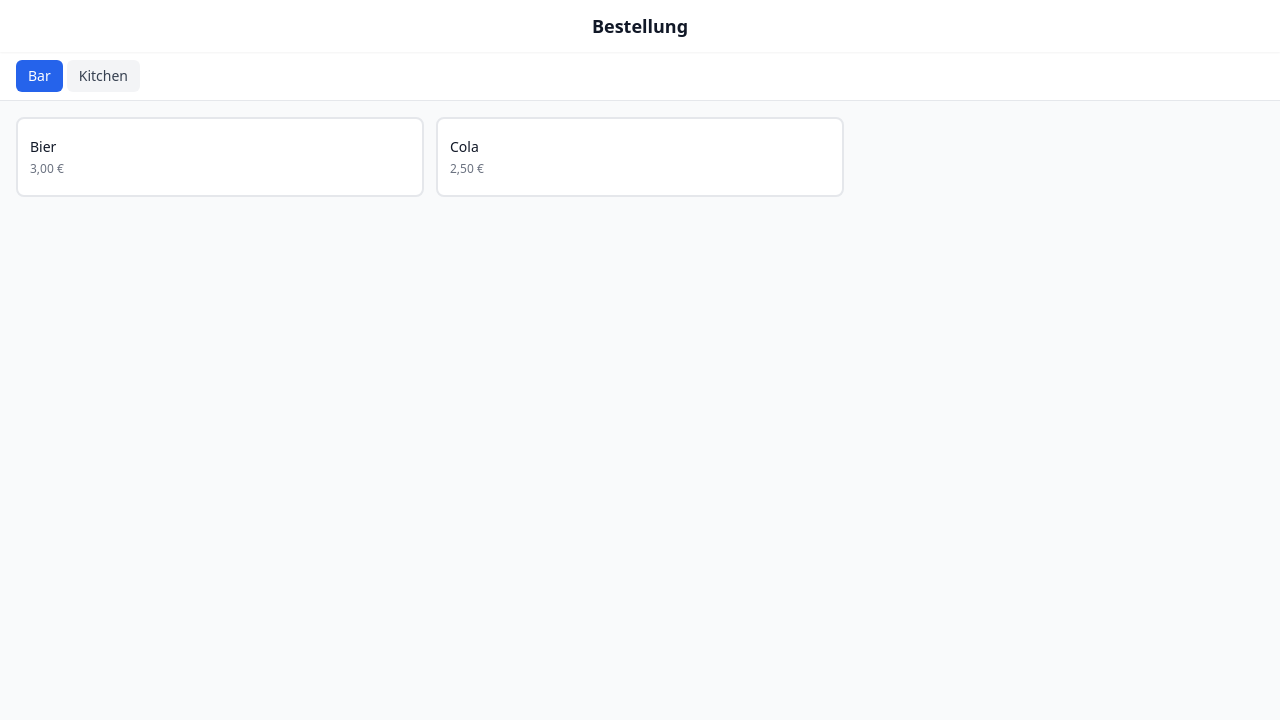
Test: GuestOrder › adding a product increments the guest cart and recomputes the total
The image size is (1280, 720).
// Add Bier twice
Click the text "Bier".
click(43, 146)  # box [30,137,56,156]
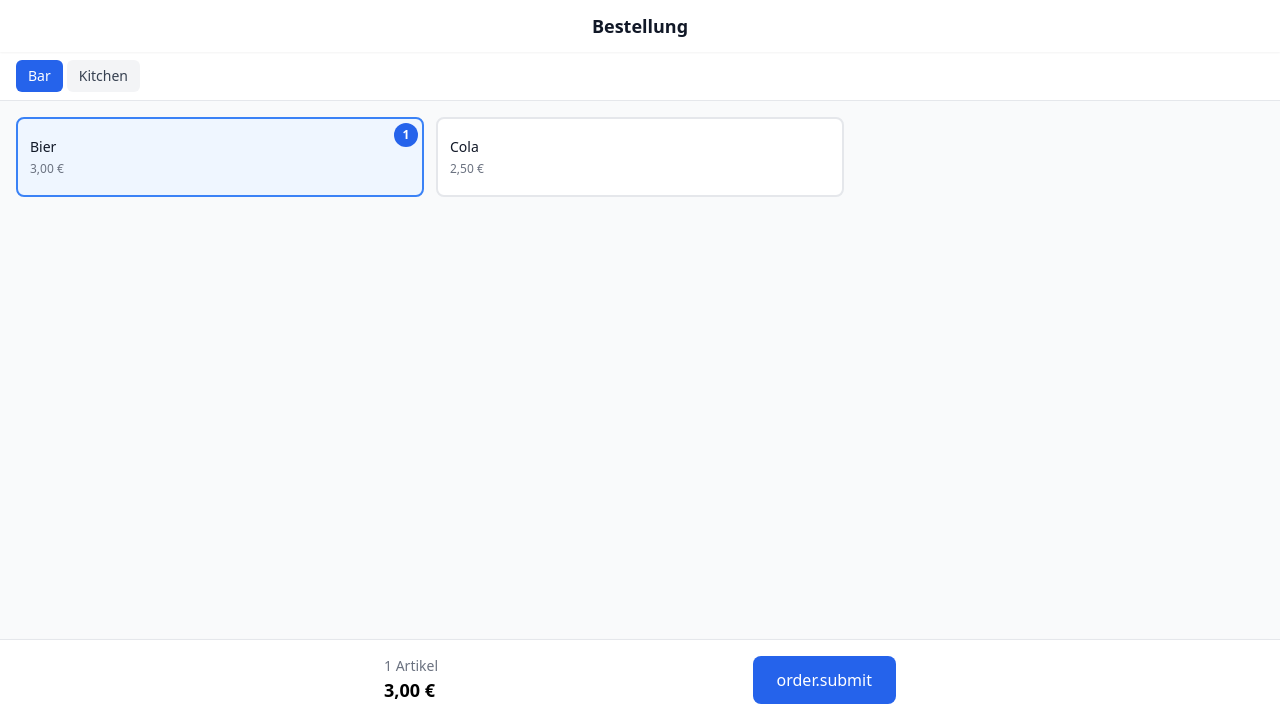
Click the text "Bier".
click(43, 146)  # box [30,137,56,156]
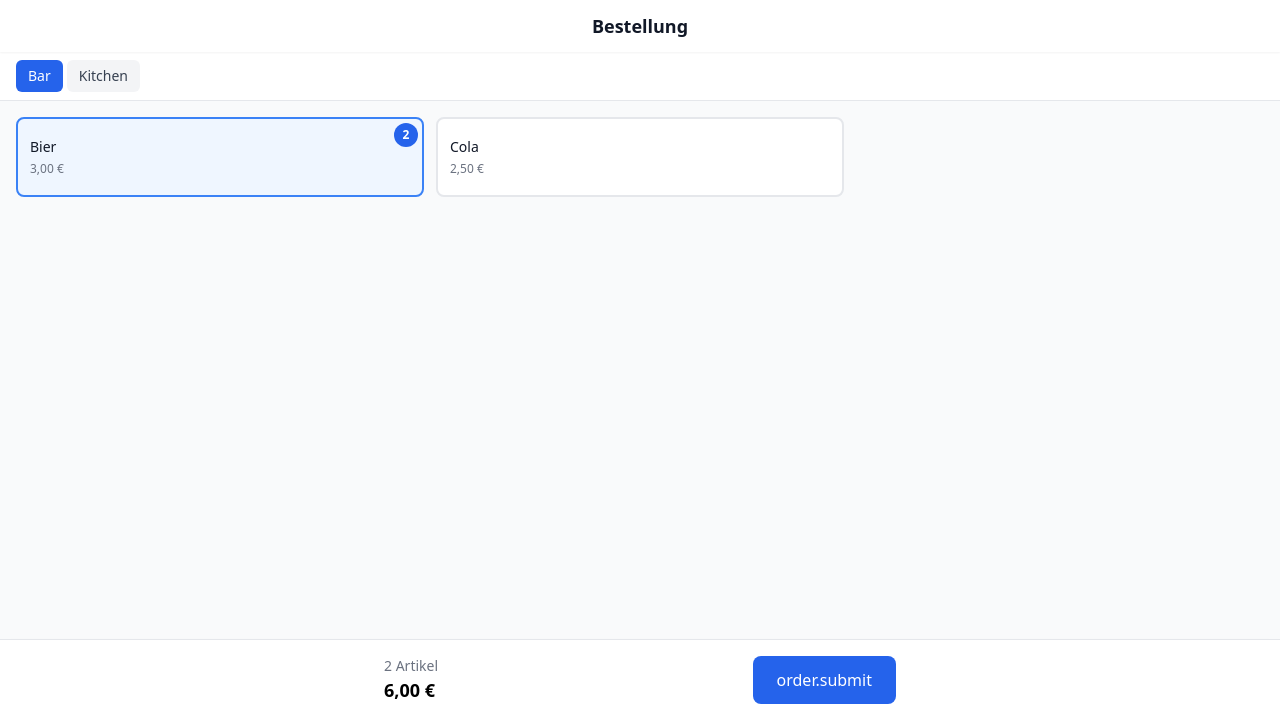
expect the text "2 Artikel" is shown: met, box [384,656,438,676]
expect the text "6,00 €" is shown: met, box [384,676,438,704]
